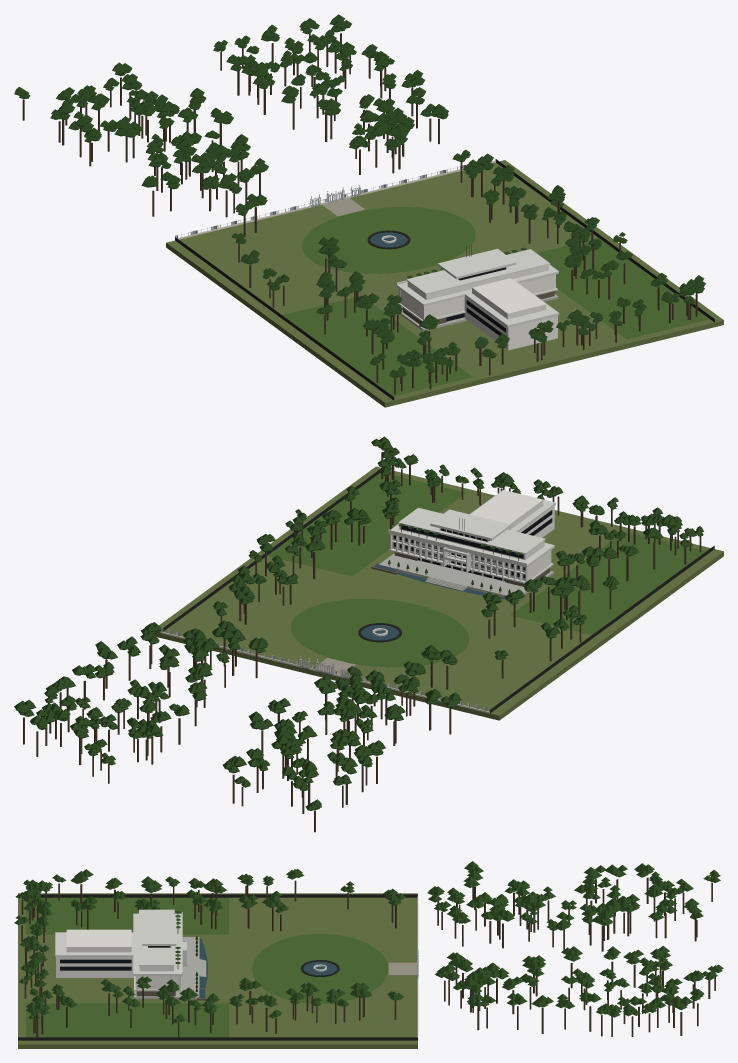
Rendered from dinh-doc-lap.glb.
3 renders of one model, top to bottom at view 1: azimuth 30°, elevation 25°; view 2: azimuth 150°, elevation 25°; view 3: azimuth 270°, elevation 25°, orthographic. The views are drawn at different scales.
Parts seen in each view (by area): view 1: DinhDocLap; view 2: DinhDocLap; view 3: DinhDocLap.
Part boxes in pixels (x1=…): DinhDocLap: x1=14, y1=14, x2=723, y2=407; DinhDocLap: x1=14, y1=436, x2=723, y2=832; DinhDocLap: x1=14, y1=861, x2=723, y2=1048.
Bounding box in the file's own units: 220 × 35.99 × 437.
